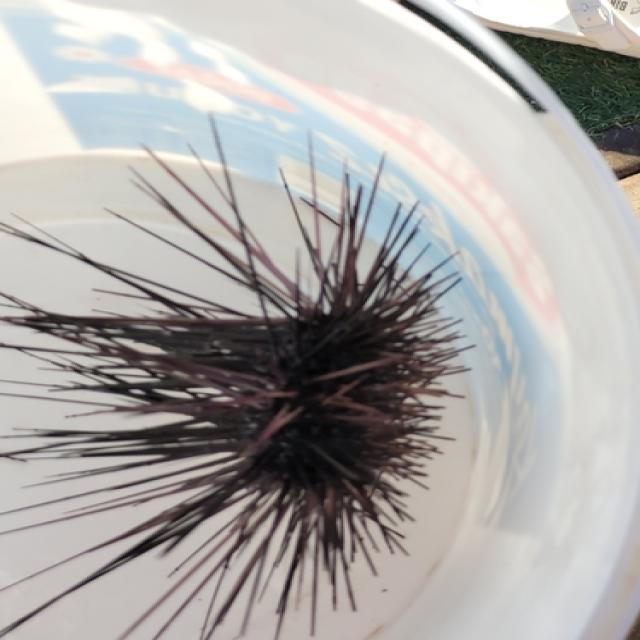Urchin: (2, 110, 474, 640)
